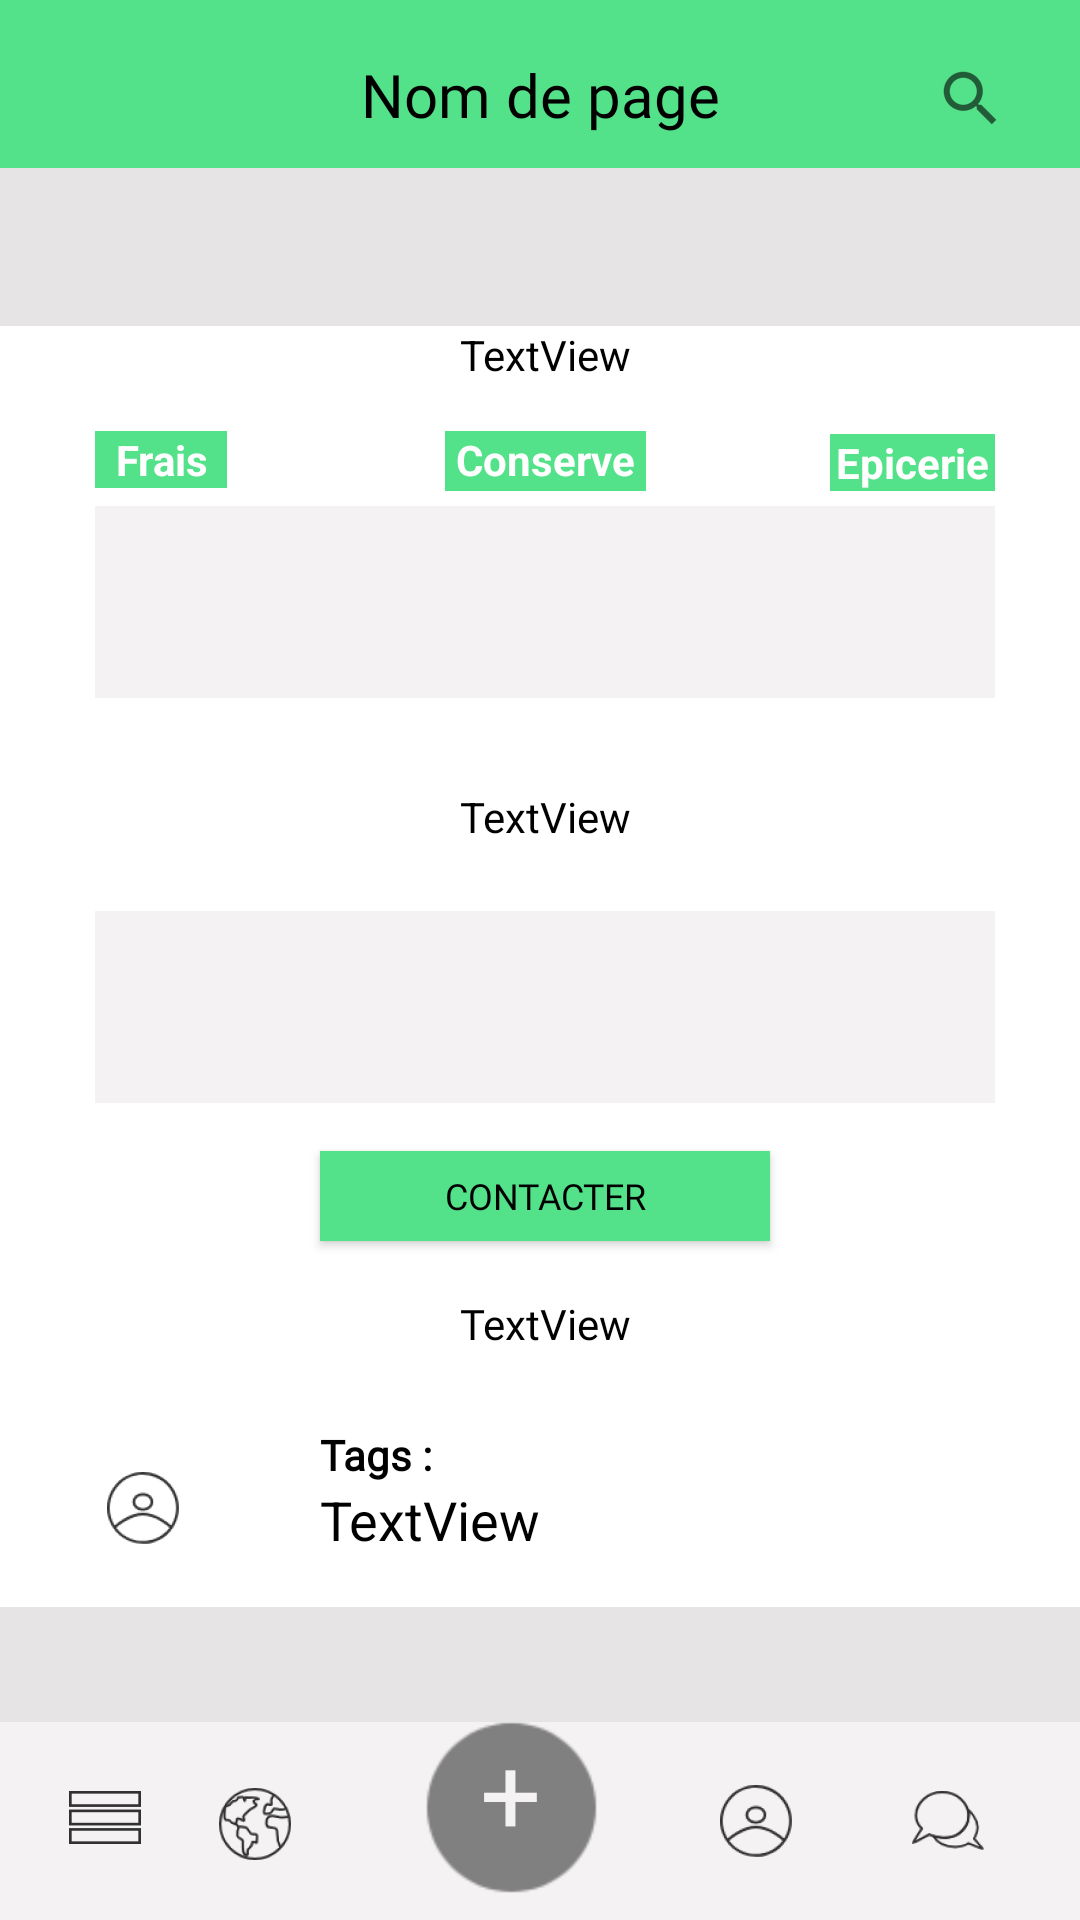

Where icons sit on this 1080x1920 app screen, as (x1, y1, x2, y2):
add: (426, 1722, 597, 1893)
discuss: (912, 1791, 984, 1850)
menu: (69, 1791, 141, 1844)
planet: (219, 1788, 291, 1860)
